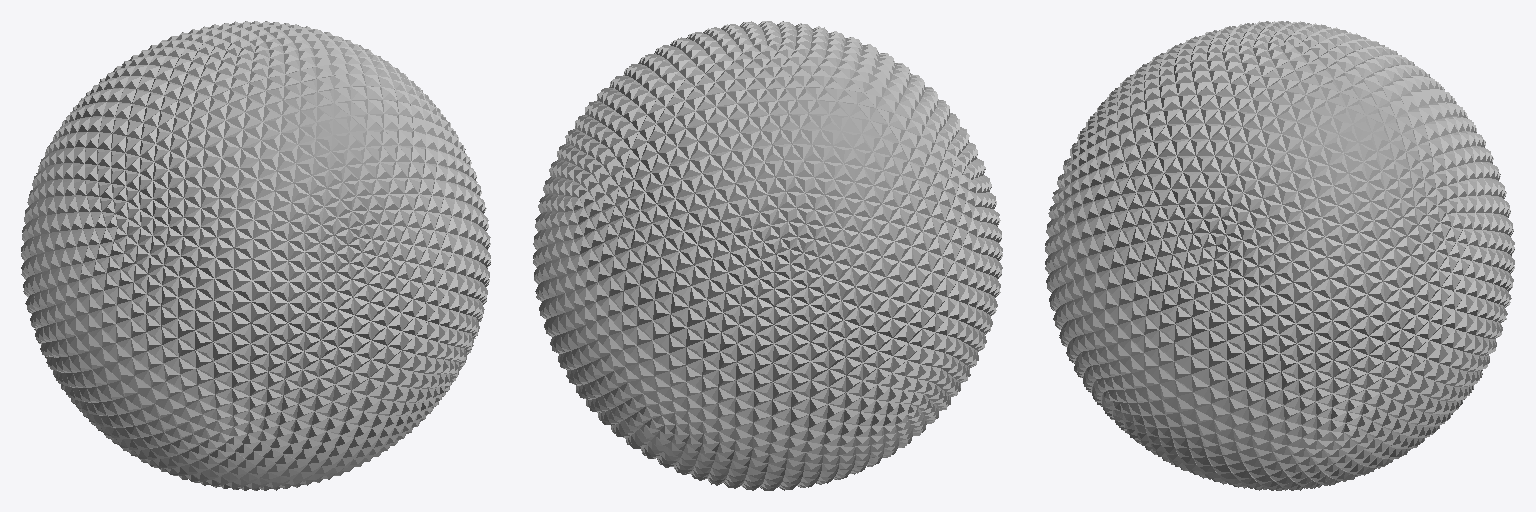
3 views of the same model, side by side, from view 1: azimuth 30°, elevation 25°; view 2: azimuth 150°, elevation 25°; view 3: azimuth 270°, elevation 25° (orthographic).
Visible parts, largest first — view 1: Epcot_mesh; view 2: Epcot_mesh; view 3: Epcot_mesh.
Part boxes in pixels (x1,y1,x2,y2): Epcot_mesh: (21,21,490,490); Epcot_mesh: (533,21,1002,490); Epcot_mesh: (1045,21,1514,490).
Bounding box in the file's own units: 50.94 × 50.97 × 50.93.
1 materials, 1 textured.